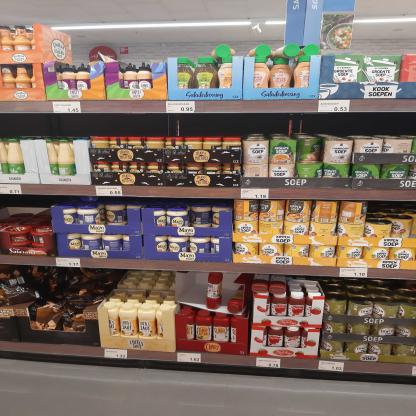prtg: (319, 101, 351, 113), (53, 102, 82, 114), (167, 102, 196, 114), (319, 361, 345, 373), (242, 190, 270, 200), (97, 187, 124, 197), (341, 269, 369, 278), (257, 359, 281, 369), (57, 259, 82, 268), (1, 185, 23, 195), (178, 354, 202, 363), (106, 350, 128, 359)
